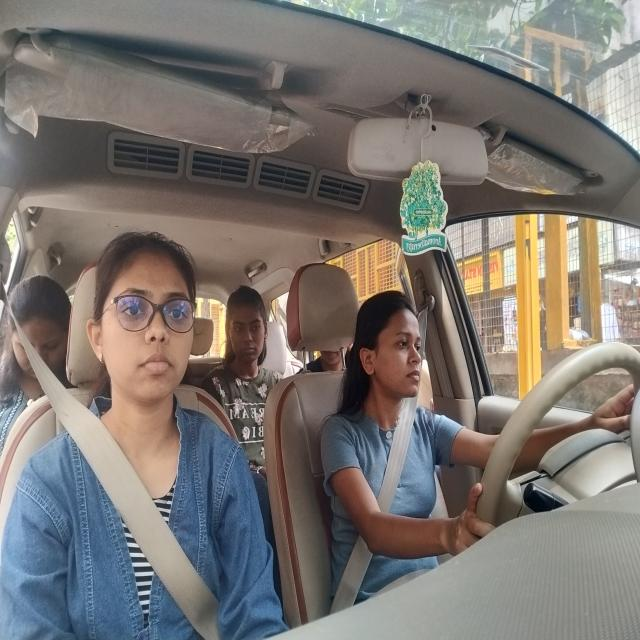person: (92, 234, 199, 408), (355, 296, 427, 404), (6, 280, 73, 393), (224, 287, 268, 366)
